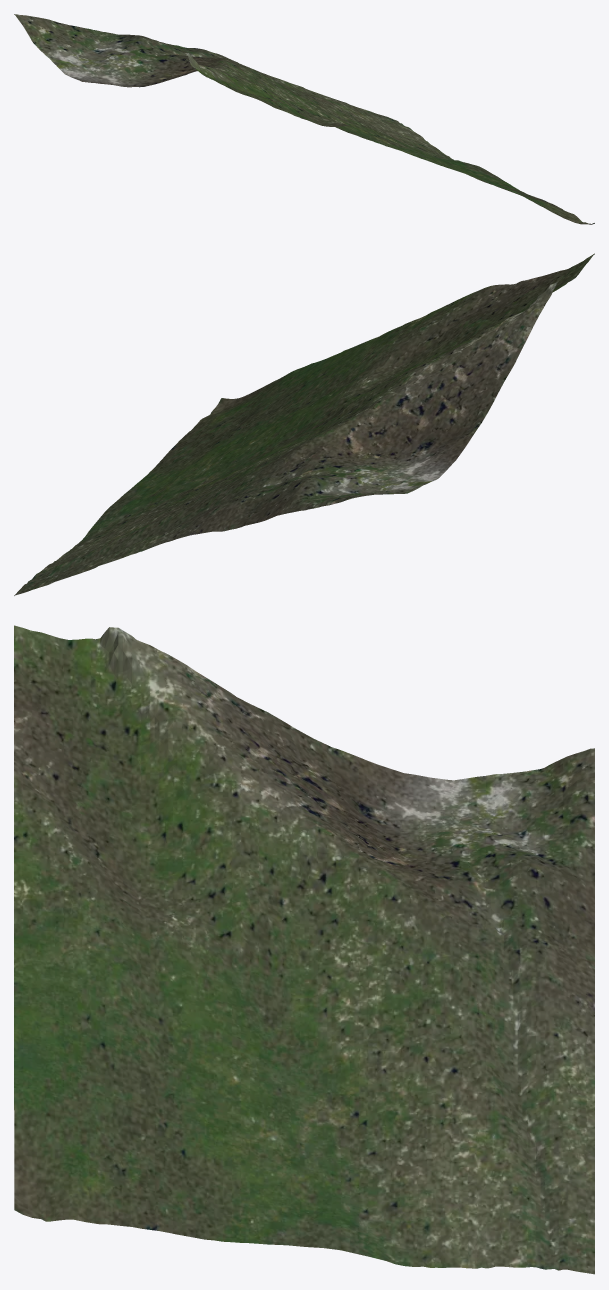
3 views of the same model, one above another, from view 1: azimuth 30°, elevation 25°; view 2: azimuth 150°, elevation 25°; view 3: azimuth 270°, elevation 25° (orthographic). The views are drawn at different scales.
Bounding box in the file's own units: 500 × 361 × 481.
1 material, 1 textured.
